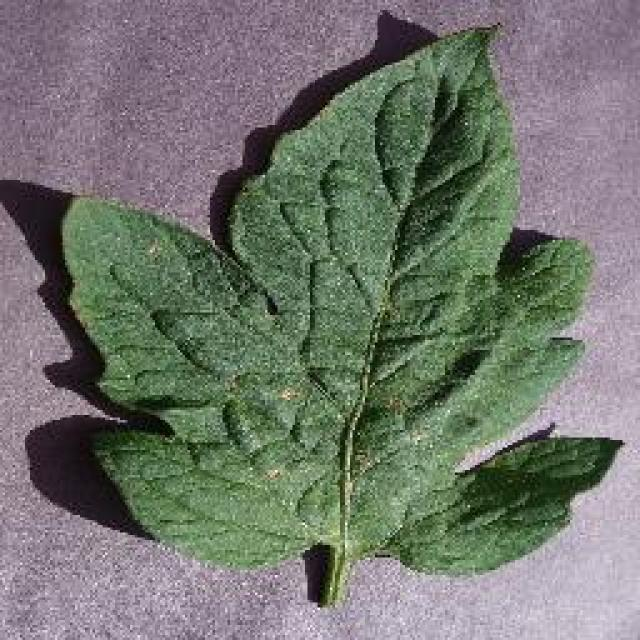Tomato Septoria spot leaf: (62, 18, 622, 578)
